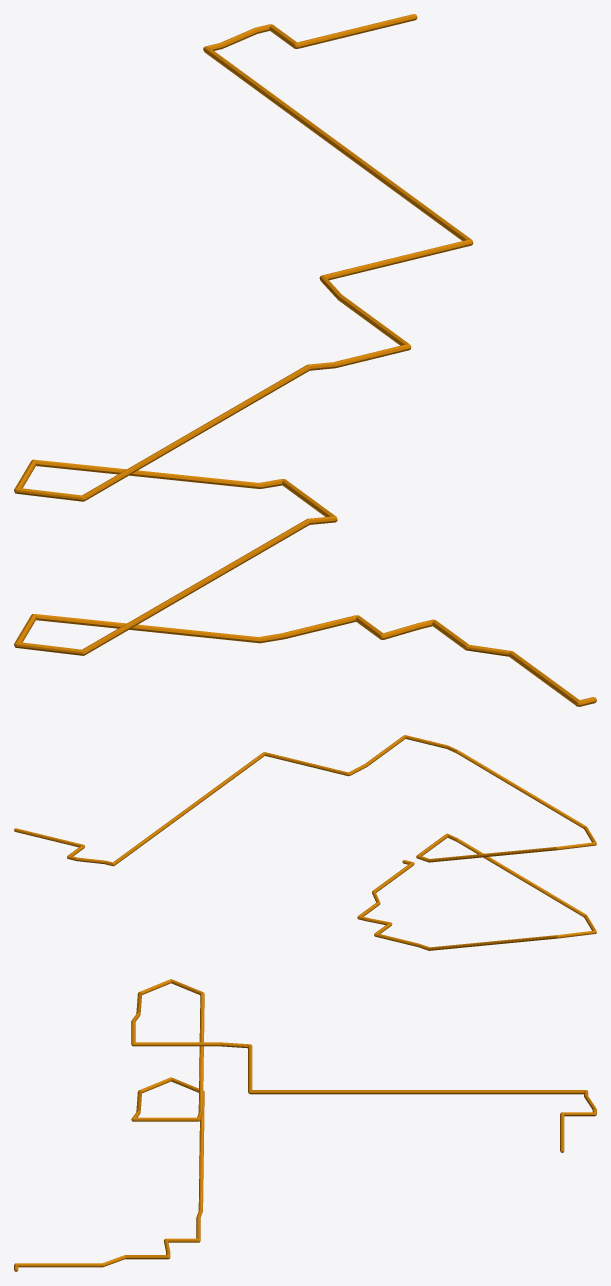
3 views of the same model, one above another, from view 1: azimuth 30°, elevation 25°; view 2: azimuth 150°, elevation 25°; view 3: azimuth 270°, elevation 25° (orthographic). The views are drawn at different scales.
Size of the model in its own units: 2409 by 1020 by 2690.
